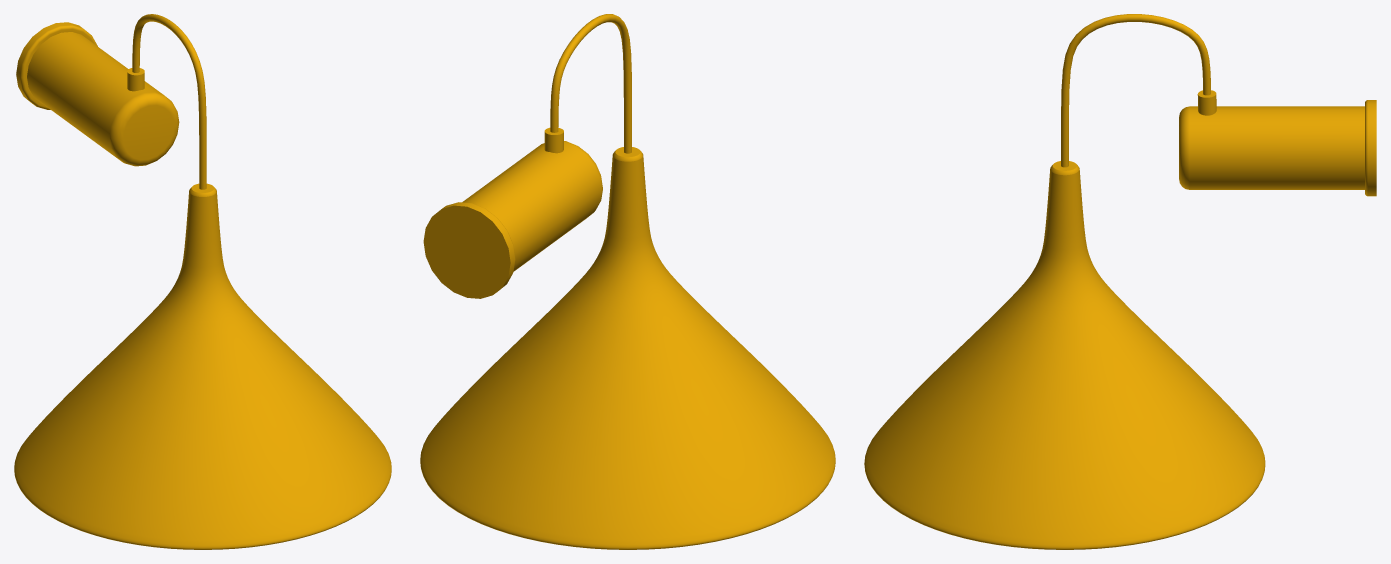
3 views of the same model, side by side, from view 1: azimuth 30°, elevation 25°; view 2: azimuth 150°, elevation 25°; view 3: azimuth 270°, elevation 25° (orthographic). The views are drawn at different scales.
Parts seen in each view (by area): view 1: pCylinder21; view 2: pCylinder21; view 3: pCylinder21.
Boxes of the visible parts, box(x1,y1,x2,y2) form: pCylinder21: box(14, 14, 391, 549); pCylinder21: box(420, 14, 835, 549); pCylinder21: box(864, 14, 1376, 549).
Size of the model in its own units: 37.68 by 46.89 by 48.12.
